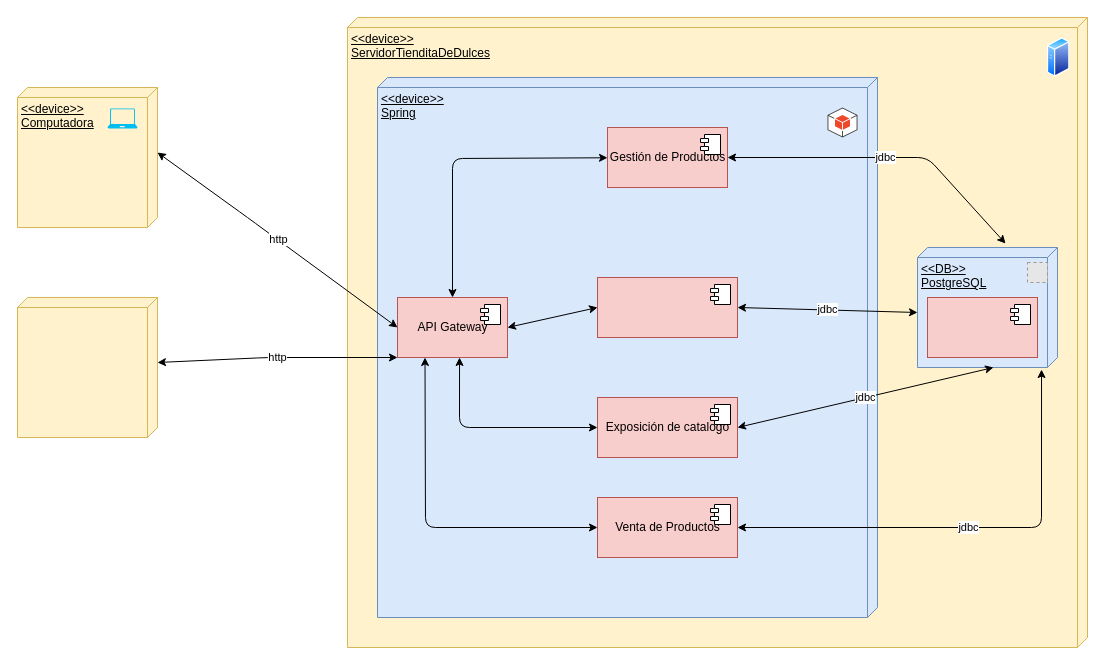
The diagram is 1105 pixels wide and 665 high, and some of its shapes have lost their labels. Grey dashed boxes stand in for pictures. The shapes that lost their labels are listed below. From the top down, each one's centre as x and y in pixels, then its label:
the point at 667,307: Registro de Administrador
the point at 982,327: «DB» PostgreSQL
the point at 87,367: <<device>> Móvil
